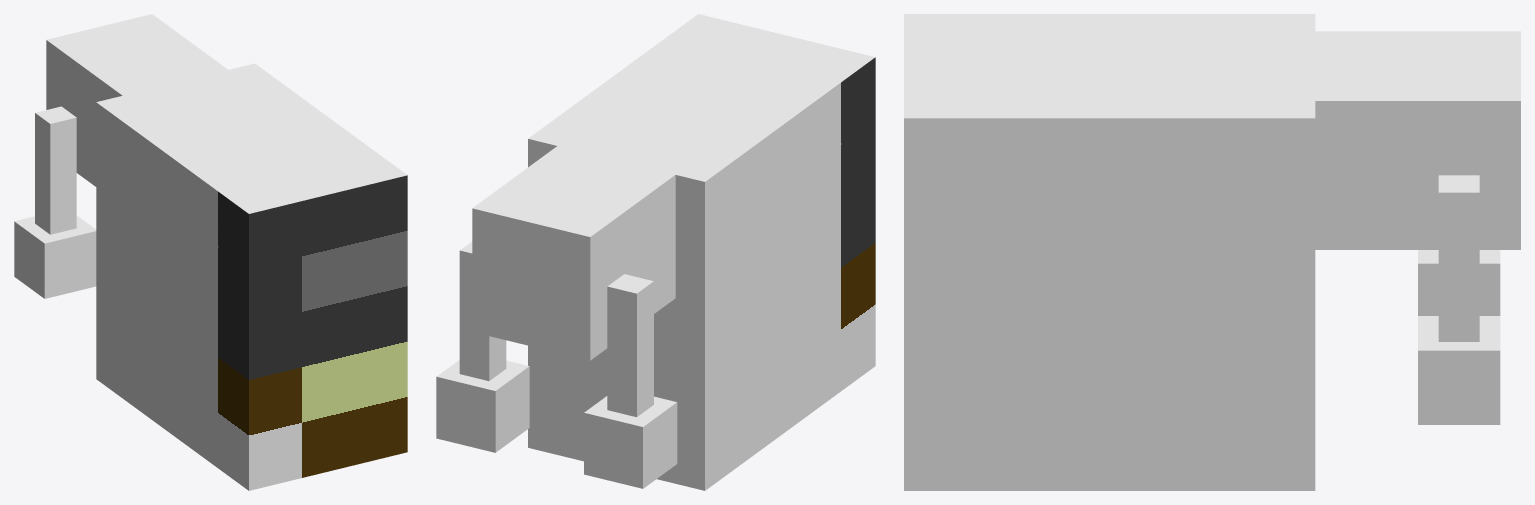
File: slug.gltf
3 views of the same model, side by side, from view 1: azimuth 30°, elevation 25°; view 2: azimuth 150°, elevation 25°; view 3: azimuth 270°, elevation 25° (orthographic). The views are drawn at different scales.
Parts seen in each view (by area): view 1: Shape2, Shape3, Shape5, Shape4; view 2: Shape2, Shape3, Shape5, Shape1, Shape4, Shape6; view 3: Shape2, Shape3, Shape1, Shape6, Shape5.
Part boxes in pixels (<box>): Shape2: <box>96,63,407,490</box>; Shape3: <box>46,14,227,186</box>; Shape5: <box>14,215,96,298</box>; Shape4: <box>35,106,76,234</box>; Shape2: <box>528,14,875,490</box>; Shape3: <box>472,146,675,360</box>; Shape5: <box>584,396,677,488</box>; Shape1: <box>436,360,529,452</box>; Shape4: <box>607,274,653,417</box>; Shape6: <box>459,241,506,380</box>; Shape2: <box>904,14,1315,490</box>; Shape3: <box>1315,31,1520,249</box>; Shape1: <box>1418,316,1500,424</box>; Shape6: <box>1438,175,1479,341</box>; Shape5: <box>1418,250,1500,315</box>.
Bounding box in the file's own units: 0.4375 × 0.625 × 0.9375.
Materials: 1 (1 with a texture image).
